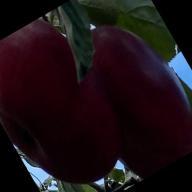Apples: (0, 6, 145, 192), (55, 4, 192, 186)
